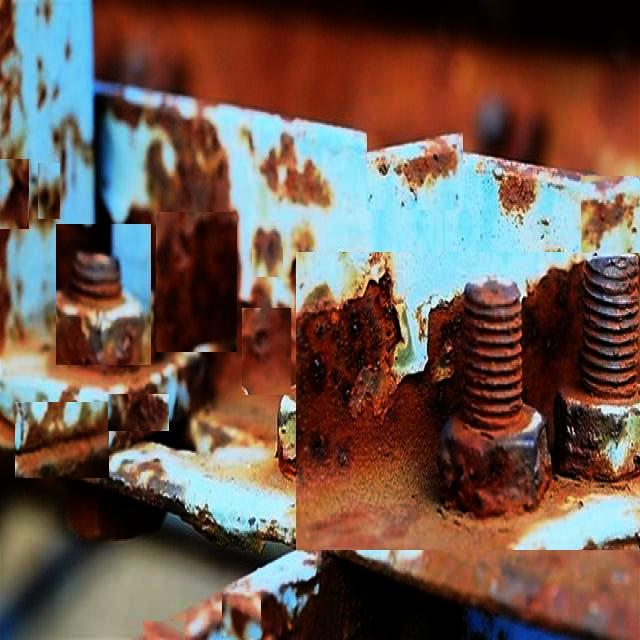Corrosion: (297, 277, 640, 552), (438, 278, 552, 518), (335, 553, 640, 640), (554, 255, 640, 482), (54, 225, 149, 366), (154, 212, 235, 352), (523, 263, 582, 444), (146, 107, 229, 212), (580, 255, 640, 398), (525, 270, 581, 414), (189, 386, 279, 454), (13, 432, 107, 480), (241, 308, 292, 396), (15, 403, 106, 452), (107, 391, 167, 452), (279, 136, 331, 206), (584, 193, 639, 252), (408, 139, 458, 186), (0, 159, 28, 229), (496, 175, 537, 222), (253, 228, 283, 276), (260, 148, 278, 192), (292, 222, 315, 252)
